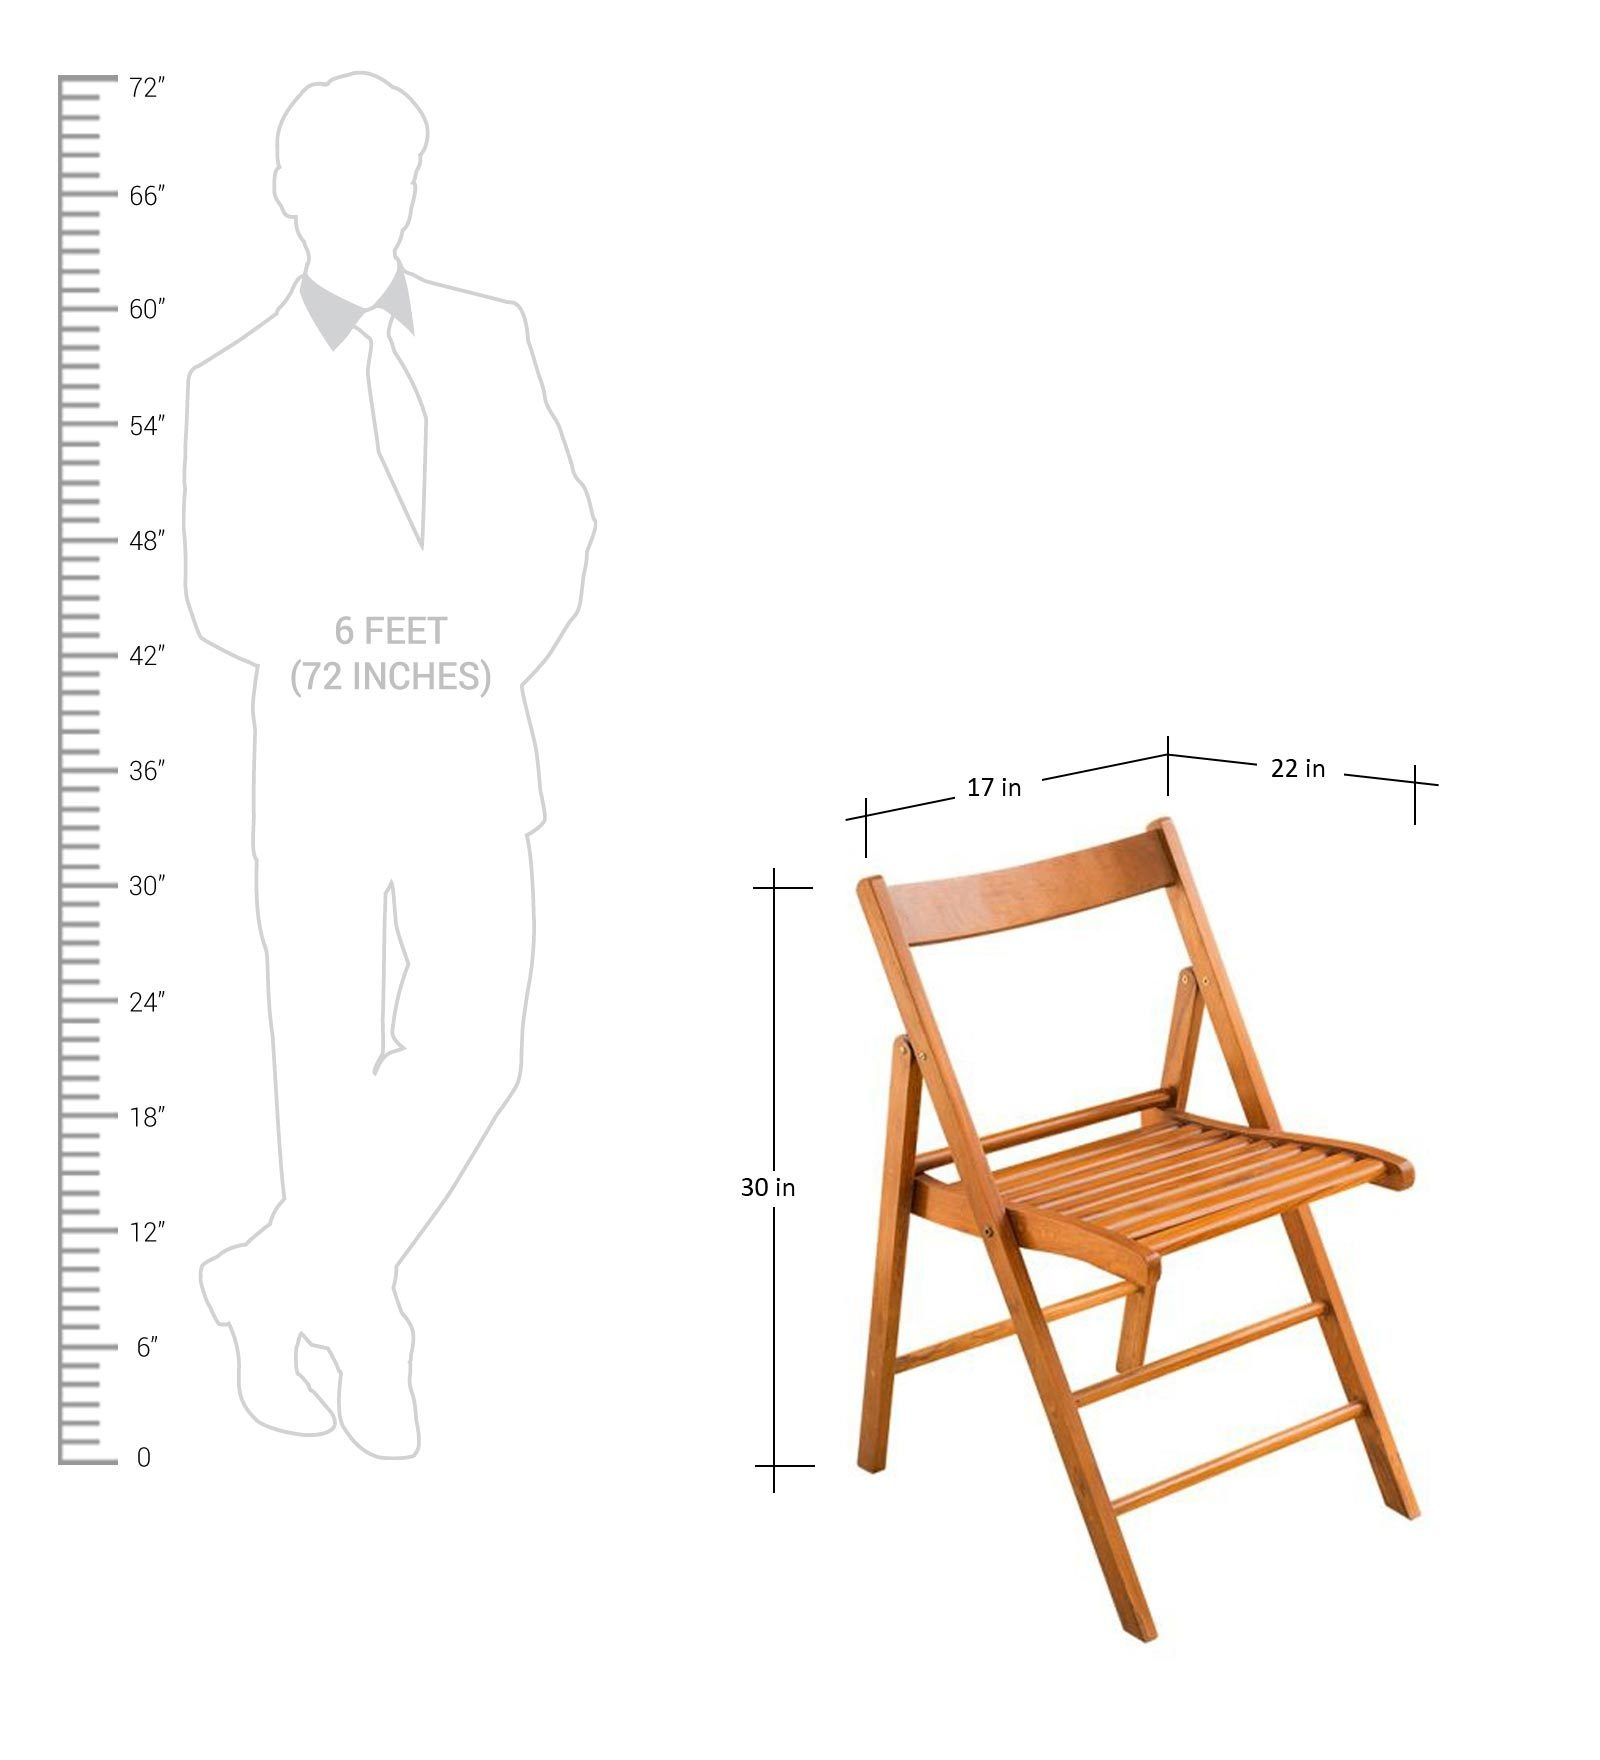Aspen Folding Chair by InLiving: (846, 831, 1448, 1643)
